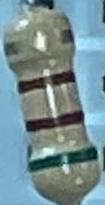Black: (24, 108, 85, 134)
Brown: (15, 66, 77, 97)
Green: (24, 145, 100, 177)
Side-Silver: (3, 24, 75, 59)
